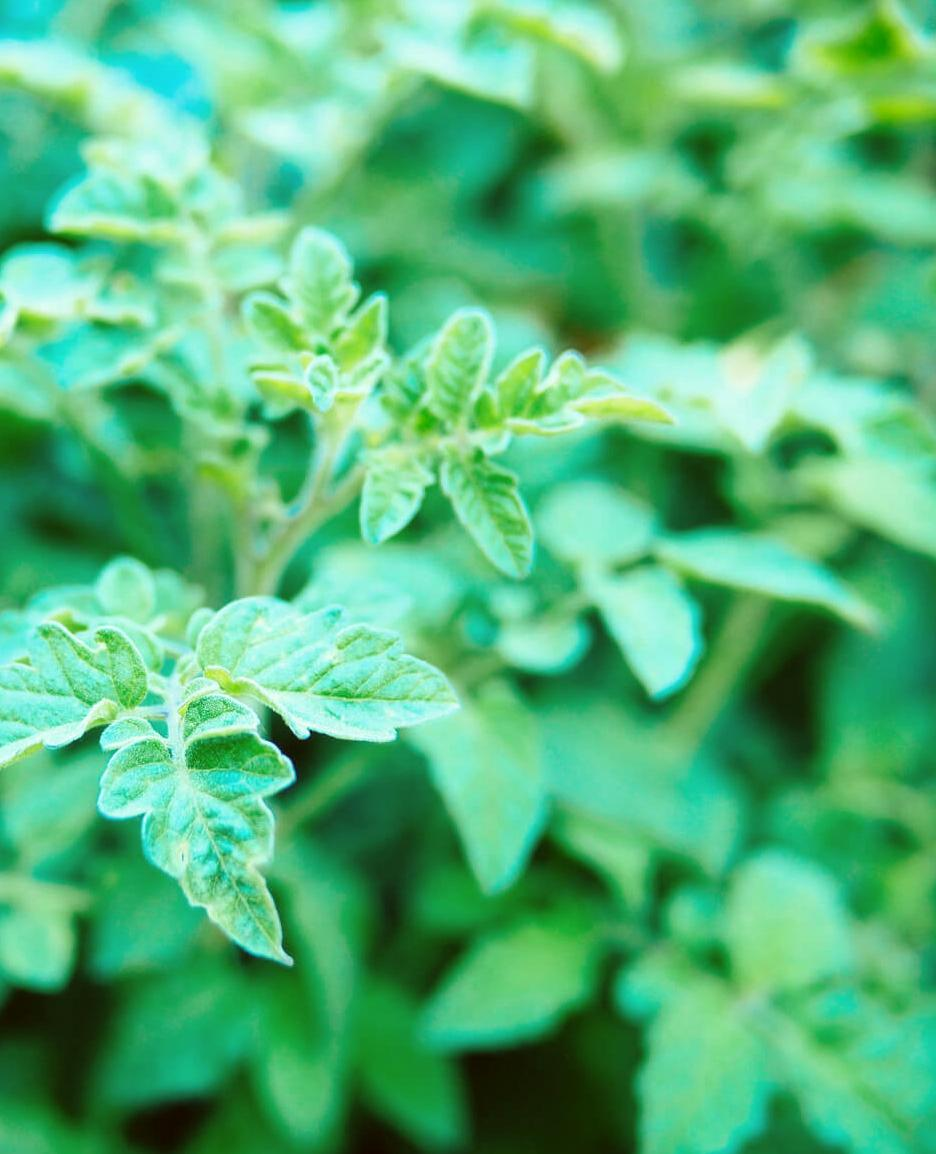Tomato leaf: (122, 667, 320, 995), (180, 594, 454, 761), (0, 584, 182, 818)
